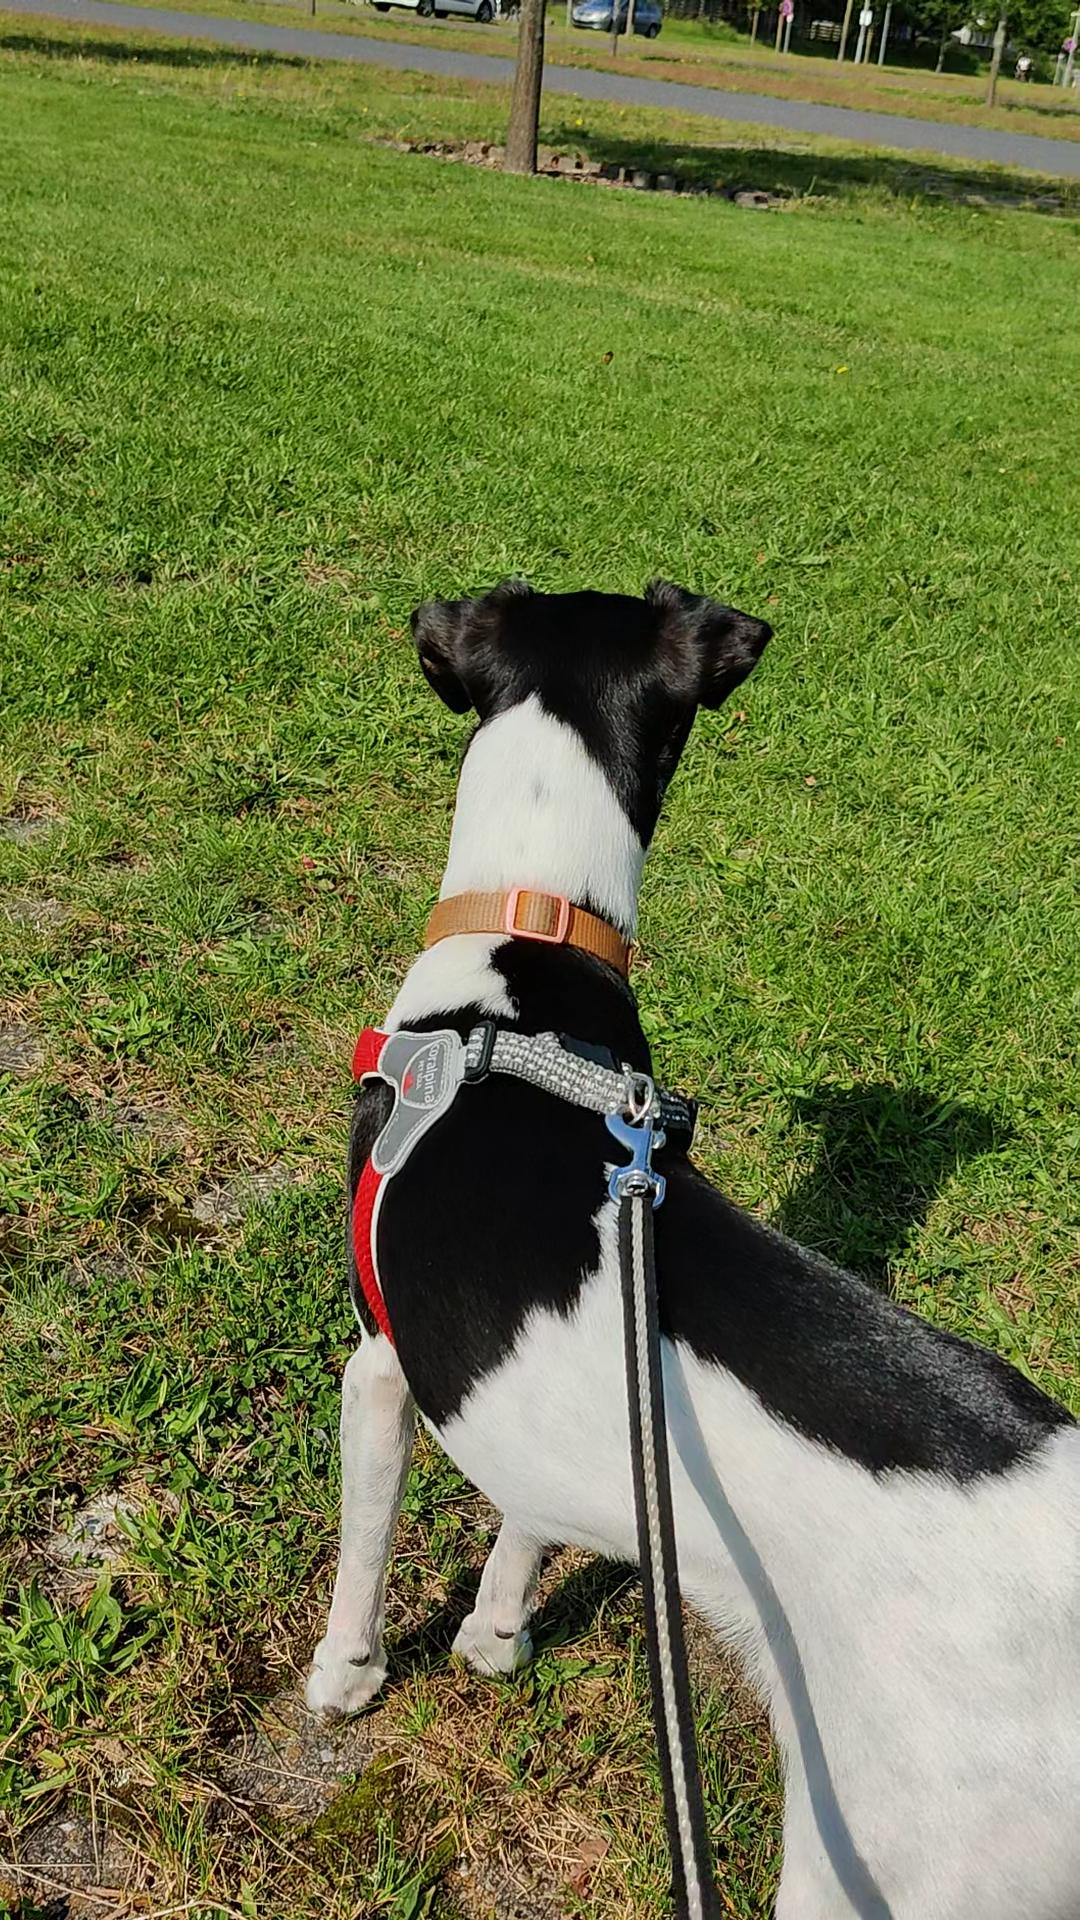Dog: (290, 562, 1079, 1919)
